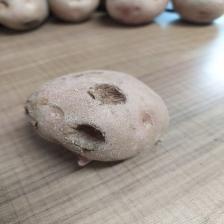Damaged potato: (19, 65, 174, 166)
